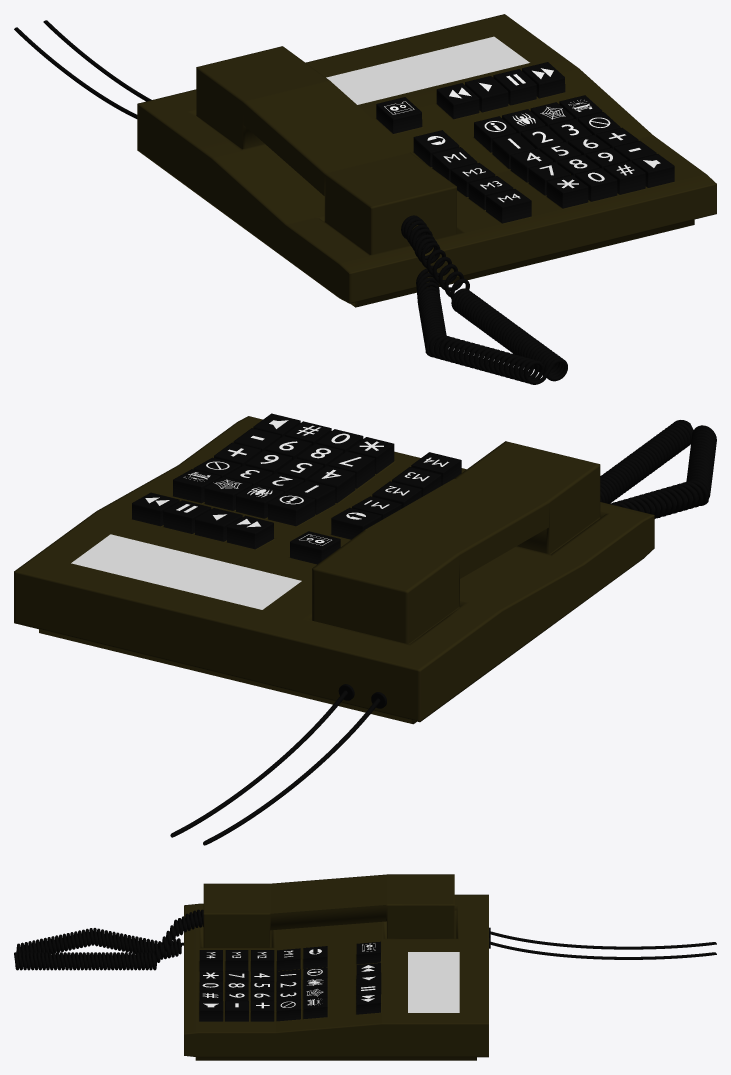
Rendered from Phone.fbx.
The picture shows the model from 3 angles, top to bottom: view 1: azimuth 30°, elevation 25°; view 2: azimuth 150°, elevation 25°; view 3: azimuth 270°, elevation 25°; orthographic projection. The views are drawn at different scales.
Parts seen in each view (by area): view 1: Phone, phonewire, NurbsCurve, NurbsCurve.001; view 2: Phone, phonewire, NurbsCurve.001, NurbsCurve; view 3: Phone, phonewire, NurbsCurve, NurbsCurve.001.
Boxes of the visible parts, bbox=[...] form: Phone: bbox=[137, 14, 716, 307]; phonewire: bbox=[401, 215, 567, 384]; NurbsCurve: bbox=[14, 27, 137, 118]; NurbsCurve.001: bbox=[43, 20, 151, 101]; Phone: bbox=[14, 413, 654, 724]; phonewire: bbox=[600, 420, 716, 518]; NurbsCurve.001: bbox=[170, 690, 347, 837]; NurbsCurve: bbox=[203, 698, 380, 845]; Phone: bbox=[184, 874, 490, 1060]; phonewire: bbox=[14, 909, 203, 970]; NurbsCurve: bbox=[490, 931, 716, 949]; NurbsCurve.001: bbox=[490, 942, 716, 959].
Bounding box in the file's own units: 2 × 0.5457 × 4.61.
